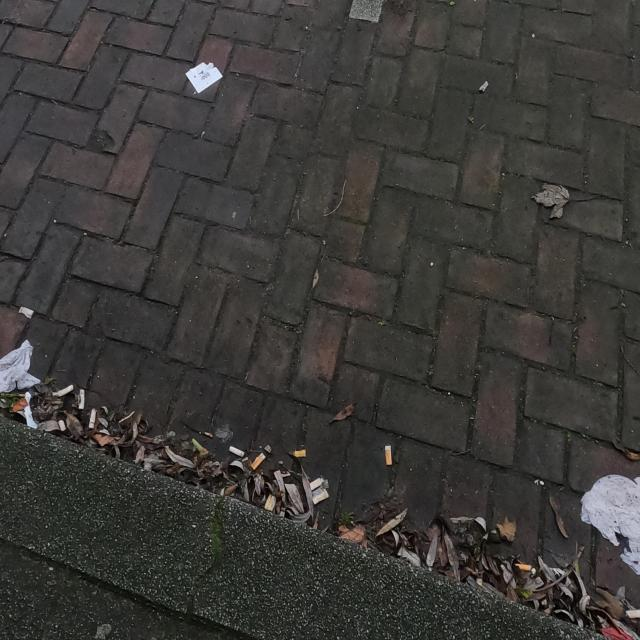Paper: (578, 473, 640, 575), (0, 338, 42, 394), (184, 61, 224, 95), (24, 392, 38, 429)
